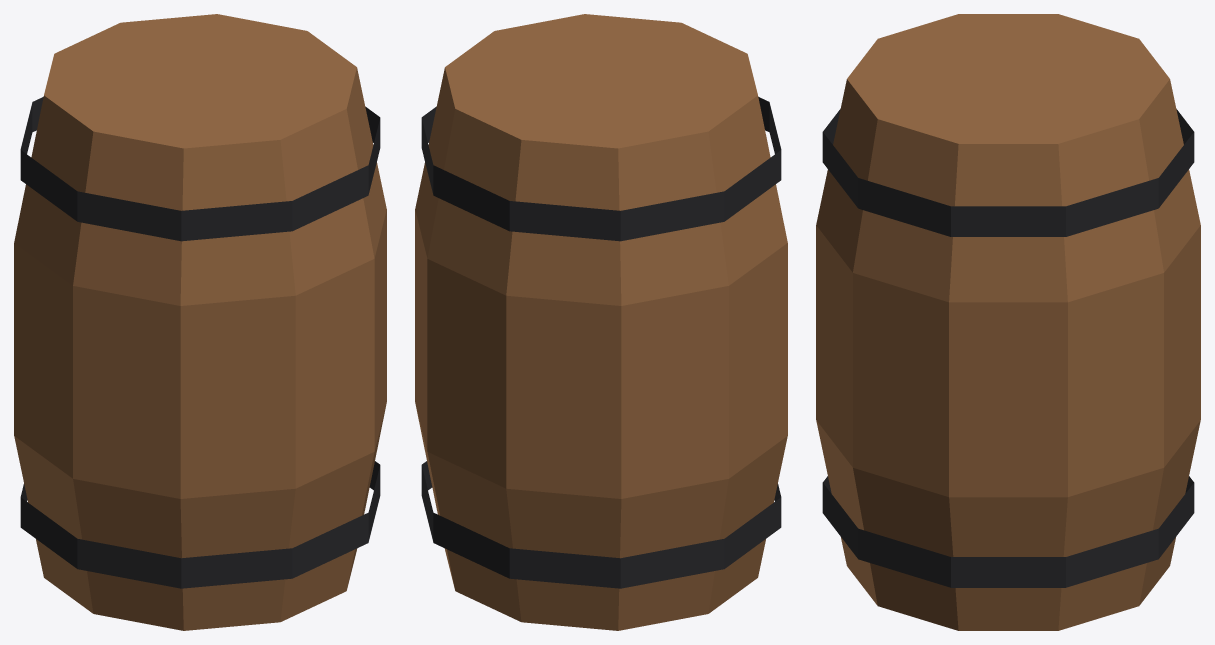
The model's file is SM_Barrel.fbx.
The picture shows the model from 3 angles, left to right: view 1: azimuth 30°, elevation 25°; view 2: azimuth 150°, elevation 25°; view 3: azimuth 270°, elevation 25°; orthographic projection.
Visible parts, largest first — view 1: Barrel; view 2: Barrel; view 3: Barrel.
Part boxes in pixels (x1=…): Barrel: x1=14, y1=14, x2=386, y2=630; Barrel: x1=415, y1=14, x2=787, y2=630; Barrel: x1=816, y1=14, x2=1200, y2=630.
Bounding box in the file's own units: 64.67 × 68 × 95.
